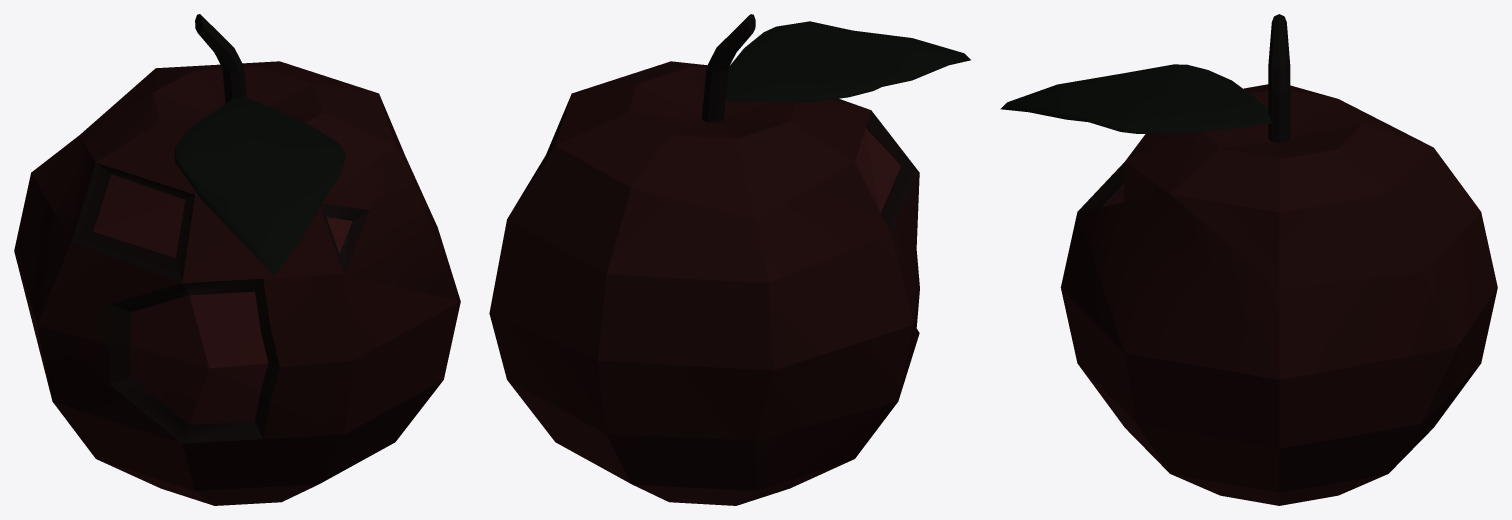
Rendered from FoodAppleRotten2.fbx.
3 renders of one model, left to right at view 1: azimuth 30°, elevation 25°; view 2: azimuth 150°, elevation 25°; view 3: azimuth 270°, elevation 25°, orthographic. The views are drawn at different scales.
Visible parts, largest first — view 1: RottenApple2; view 2: RottenApple2; view 3: RottenApple2.
Boxes of the visible parts, bbox=[...] form: RottenApple2: bbox=[14, 14, 460, 505]; RottenApple2: bbox=[489, 14, 970, 505]; RottenApple2: bbox=[1000, 14, 1497, 505].
Size of the model in its own units: 11.77 by 13.05 by 13.4.
